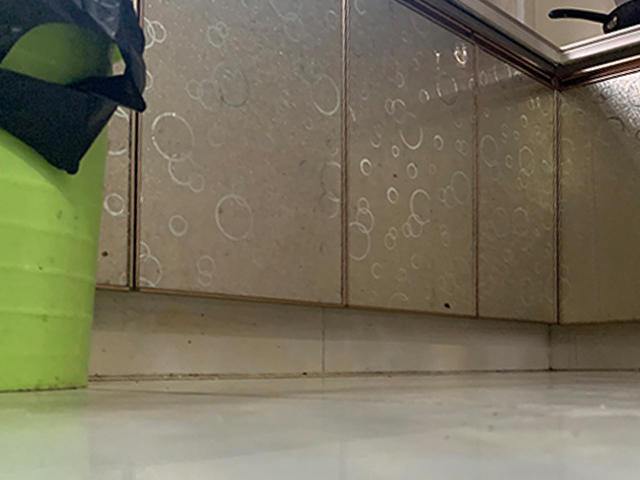cabinet: (100, 1, 563, 378)
trash can: (1, 1, 141, 392)
